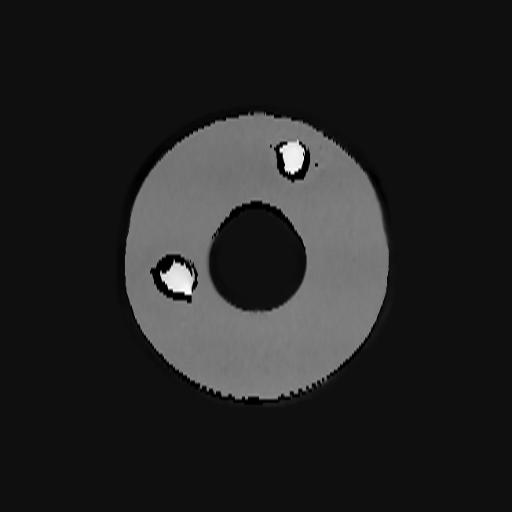defect: (150, 254, 199, 304), (270, 138, 318, 183)
